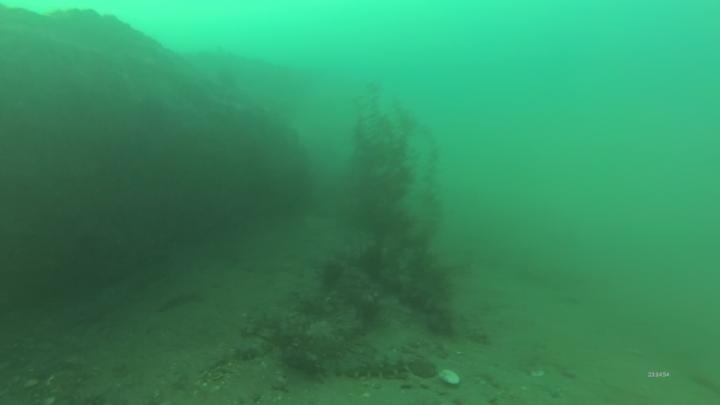echinus: (316, 258, 347, 291)
holothurian: (332, 349, 421, 383)
